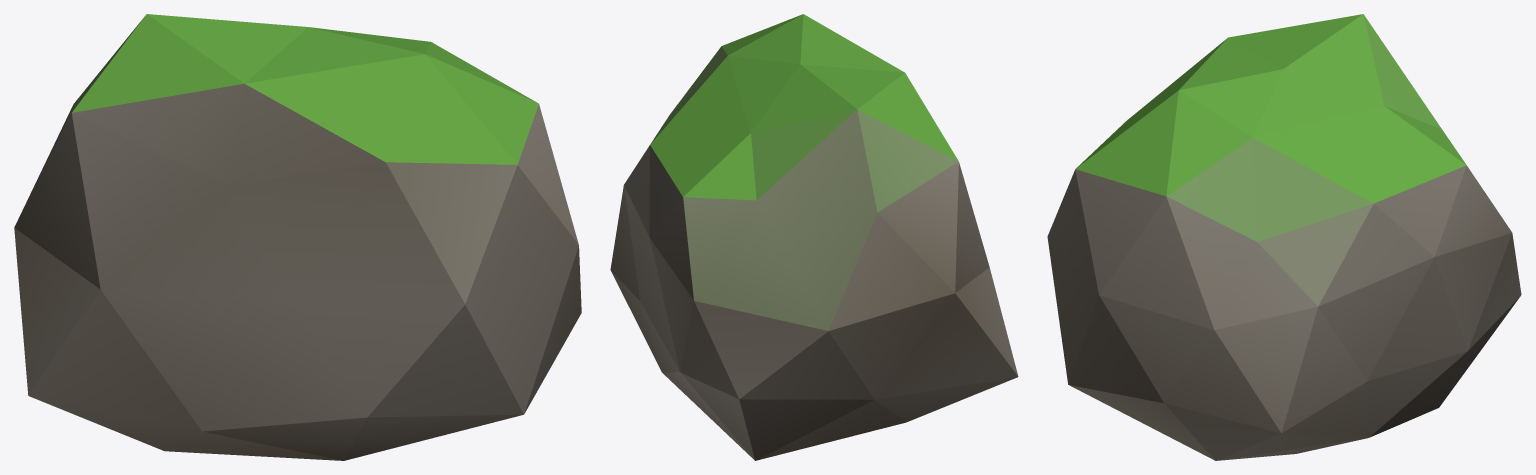
The model's file is world_boulder_mossy_a.fbx.
The picture shows the model from 3 angles, left to right: view 1: azimuth 30°, elevation 25°; view 2: azimuth 150°, elevation 25°; view 3: azimuth 270°, elevation 25°; orthographic projection. The views are drawn at different scales.
Visible parts, largest first — view 1: world_boulder_mossy_a; view 2: world_boulder_mossy_a; view 3: world_boulder_mossy_a.
Boxes of the visible parts, x1,y1,x2,y2 form: world_boulder_mossy_a: [14, 14, 581, 460]; world_boulder_mossy_a: [610, 14, 1018, 460]; world_boulder_mossy_a: [1047, 14, 1521, 460].
Bounding box in the file's own units: 291 × 245 × 273.
